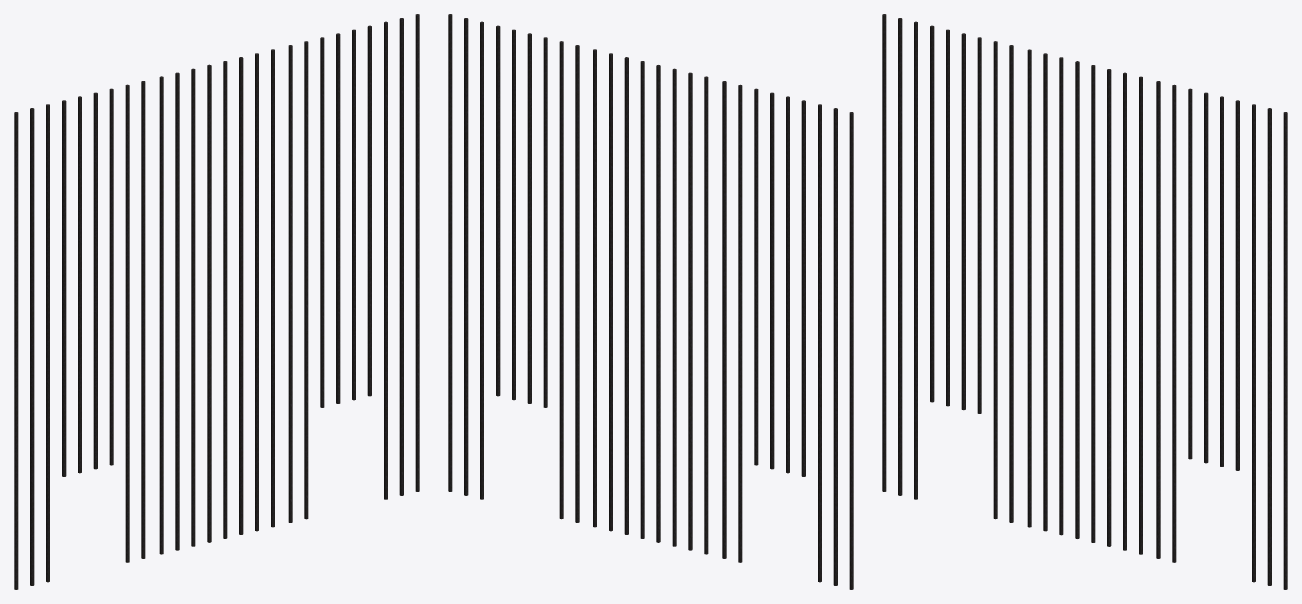
Rendered from Sewer_Bars.FBX.
3 views of the same model, side by side, from view 1: azimuth 30°, elevation 25°; view 2: azimuth 150°, elevation 25°; view 3: azimuth 330°, elevation 25° (orthographic).
Visible parts, largest first — view 1: Sewer_Bars; view 2: Sewer_Bars; view 3: Sewer_Bars.
Part boxes in pixels (x1,y1,x2,y2): Sewer_Bars: (14, 14, 419, 589); Sewer_Bars: (448, 14, 853, 589); Sewer_Bars: (882, 14, 1287, 589).
Bounding box in the file's own units: 539 × 606 × 4.9.
Materials: 1 (1 with a texture image).
